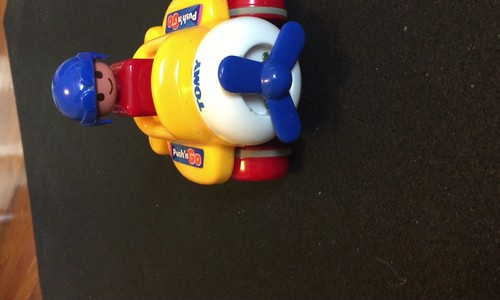toy: (40, 9, 311, 189)
